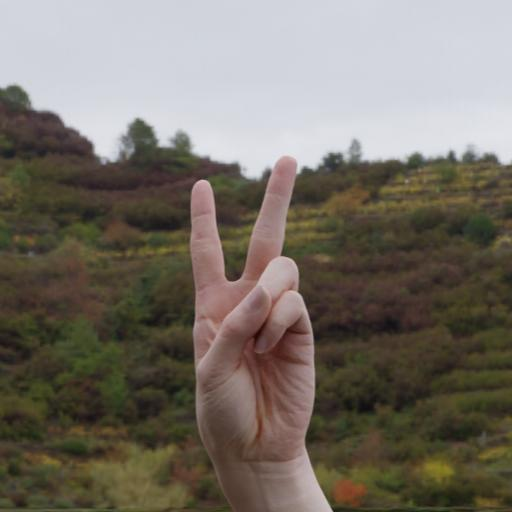V: (178, 156, 362, 492)
